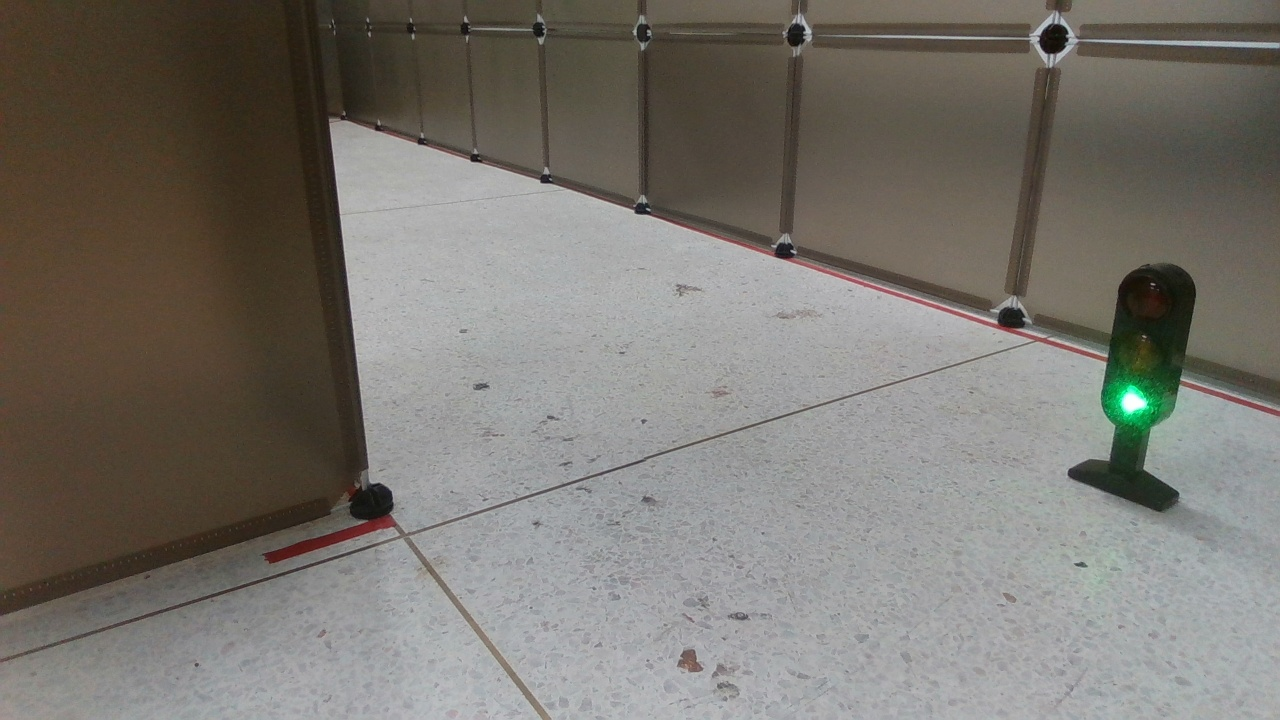Green traffic light: (1064, 255, 1198, 510)
